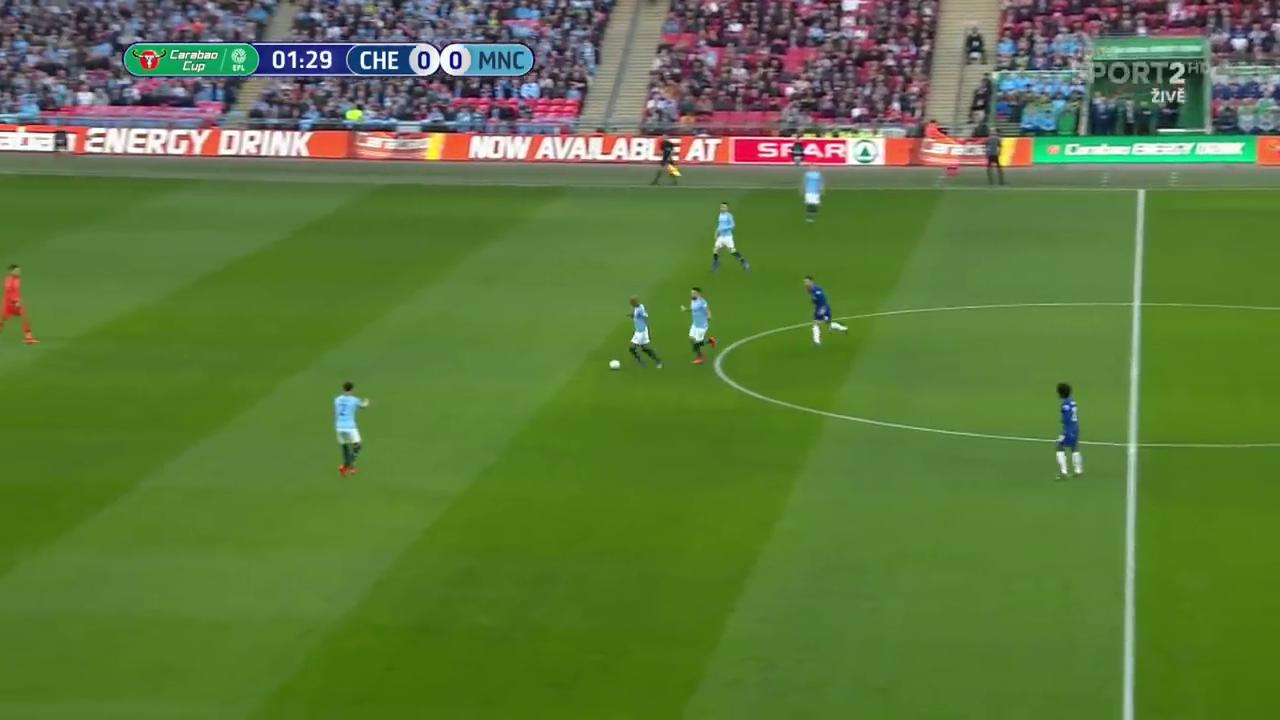ball: (605, 358, 620, 372)
goalie: (1, 257, 37, 351)
player: (330, 380, 375, 480), (1046, 378, 1085, 481), (798, 273, 852, 347), (676, 285, 722, 369), (705, 198, 750, 276), (622, 295, 666, 372), (798, 162, 826, 224)
